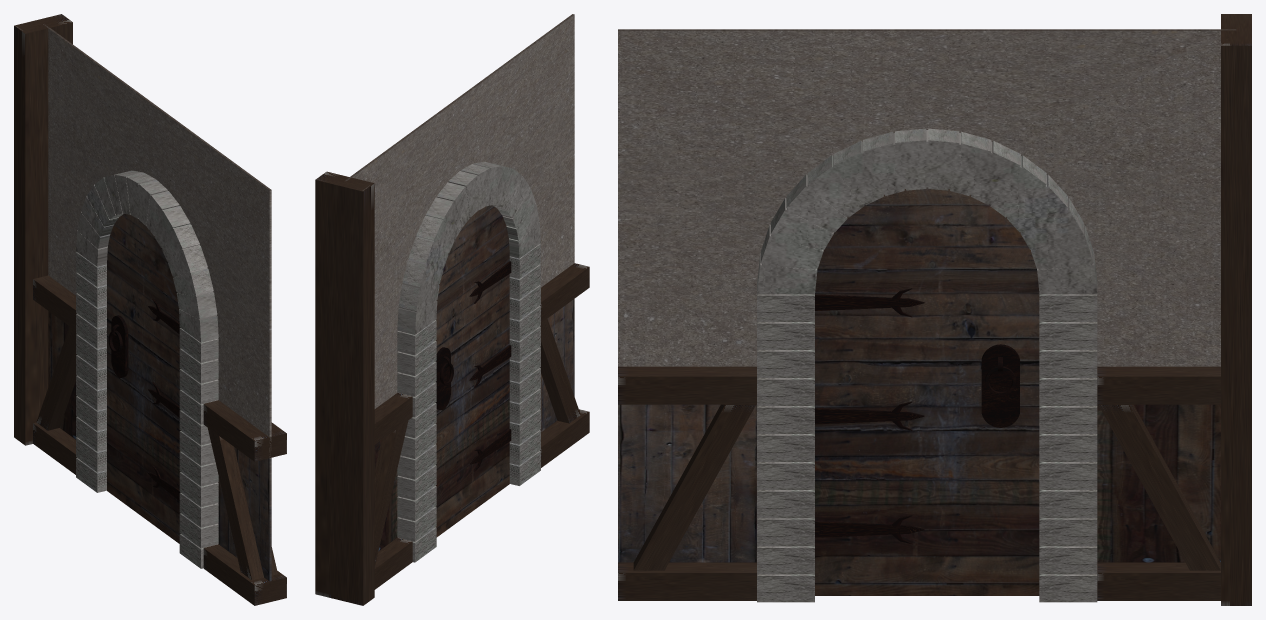
Rendered from OutdoorArchitecture_BasicWall01_Door02_RightEdge_BShortt.fbx.
The picture shows the model from 3 angles, left to right: view 1: azimuth 30°, elevation 25°; view 2: azimuth 150°, elevation 25°; view 3: azimuth 270°, elevation 25°; orthographic projection. The views are drawn at different scales.
Parts seen in each view (by area): view 1: OutdoorArchitecture_BasicWall01_Door02_RightEdge_BShortt; view 2: OutdoorArchitecture_BasicWall01_Door02_RightEdge_BShortt; view 3: OutdoorArchitecture_BasicWall01_Door02_RightEdge_BShortt.
Part boxes in pixels (box(x1,y1,x2,y2)): OutdoorArchitecture_BasicWall01_Door02_RightEdge_BShortt: box(14, 14, 286, 605); OutdoorArchitecture_BasicWall01_Door02_RightEdge_BShortt: box(315, 14, 589, 605); OutdoorArchitecture_BasicWall01_Door02_RightEdge_BShortt: box(618, 14, 1251, 605).
Size of the model in its own units: 36.37 by 300 by 308.
